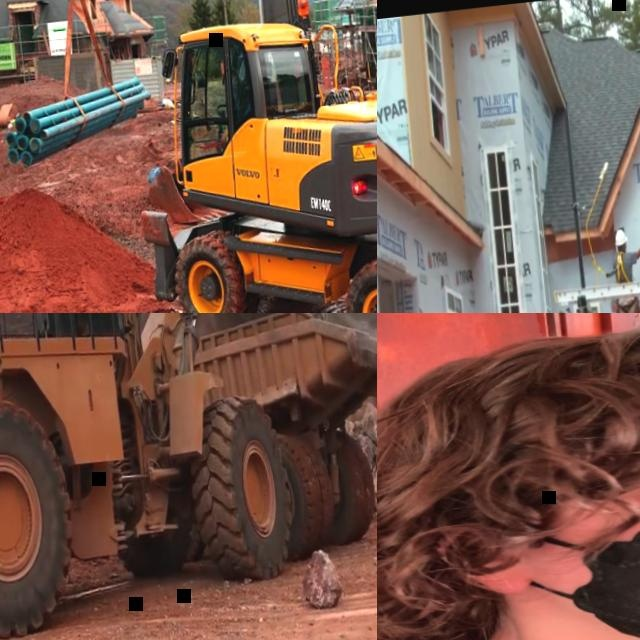Hardhat: (613, 229, 628, 248)
Mask: (479, 454, 640, 640)
NO-Hardhat: (377, 313, 640, 461)
NO-Mask: (622, 246, 626, 253)
NO-Safety Vest: (612, 252, 632, 282)
Person: (377, 313, 640, 640), (212, 66, 253, 150), (604, 225, 640, 313)
Safety Vest: (230, 79, 249, 113)
machinery: (0, 313, 367, 640), (55, 0, 377, 313), (172, 313, 377, 573)
